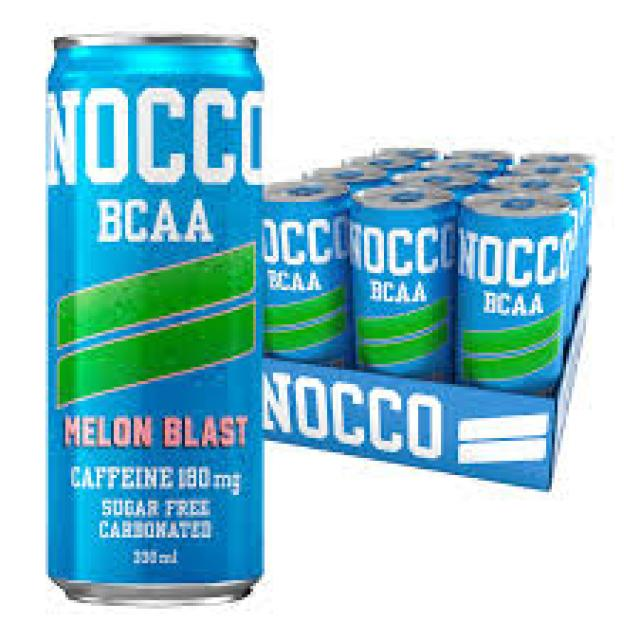Cans: (34, 20, 279, 617), (452, 180, 575, 396), (341, 180, 464, 378), (262, 176, 358, 367)
